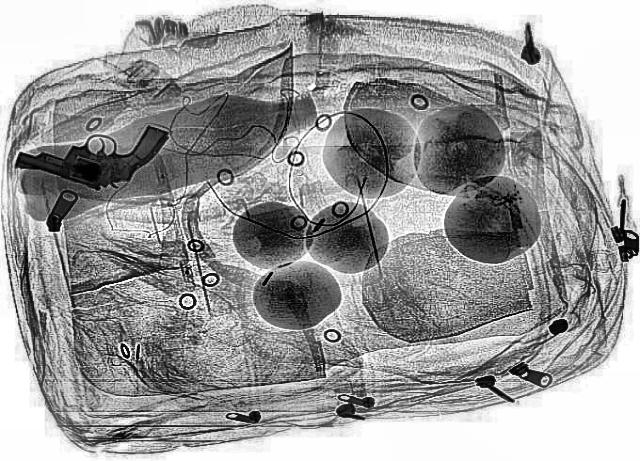Gun: (8, 125, 176, 198)
